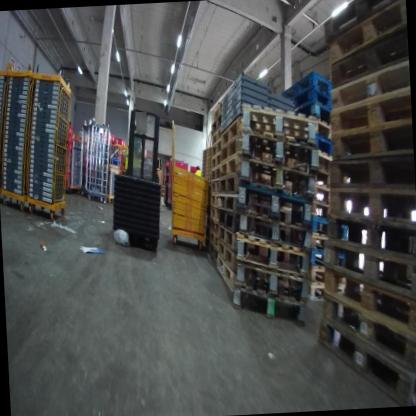pallet: (314, 309, 416, 410), (322, 284, 416, 380), (331, 231, 416, 315), (327, 262, 416, 342), (322, 0, 407, 74), (329, 201, 416, 271), (327, 25, 406, 95), (236, 171, 312, 239), (329, 53, 409, 113), (331, 82, 411, 142), (328, 181, 416, 232), (231, 273, 311, 325), (241, 128, 315, 184), (235, 229, 309, 284), (235, 203, 314, 254), (237, 99, 317, 148), (238, 150, 318, 198), (327, 149, 414, 193), (233, 253, 311, 300), (322, 0, 407, 43), (333, 118, 413, 162), (282, 68, 335, 108), (291, 84, 334, 123), (214, 251, 245, 305), (299, 264, 351, 287), (217, 115, 252, 149), (306, 213, 350, 240), (301, 280, 352, 301), (217, 152, 250, 183), (310, 164, 339, 198), (218, 222, 243, 257), (218, 135, 246, 166), (308, 126, 336, 157), (305, 247, 350, 266), (216, 236, 237, 275), (308, 186, 332, 219), (305, 233, 350, 250), (219, 191, 246, 215), (309, 181, 333, 208), (218, 209, 240, 238), (218, 171, 241, 198), (315, 99, 332, 128), (317, 117, 334, 146), (315, 147, 334, 172), (210, 113, 228, 133), (206, 229, 221, 252), (209, 100, 224, 122), (208, 201, 221, 225), (207, 242, 219, 266), (208, 128, 223, 147), (210, 151, 224, 169), (208, 177, 222, 195), (209, 138, 221, 158), (209, 215, 219, 237), (209, 191, 221, 209), (210, 164, 221, 182)
pallet_truck: (100, 93, 170, 265)
